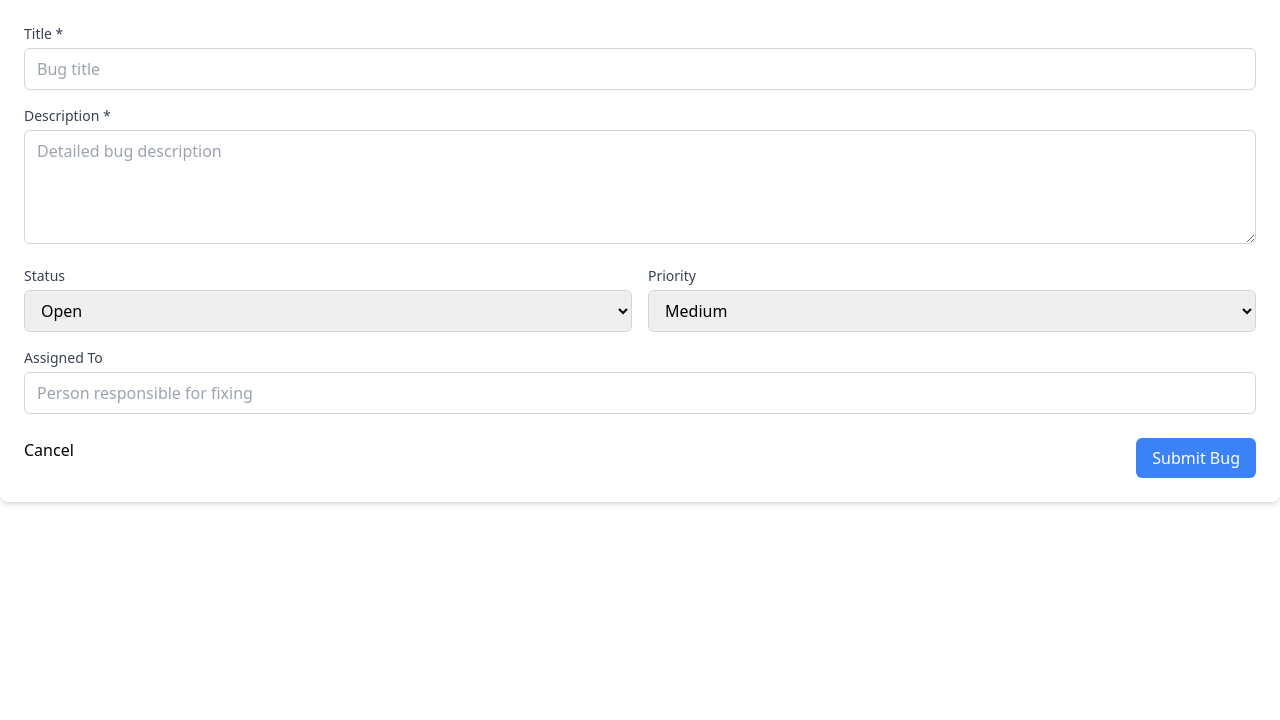
Scenario: BugForm Component › displays validation errors when submitting empty form
The image size is (1280, 720).
Click the button "Submit Bug" at [1196, 458], box [1136,438,1256,478]
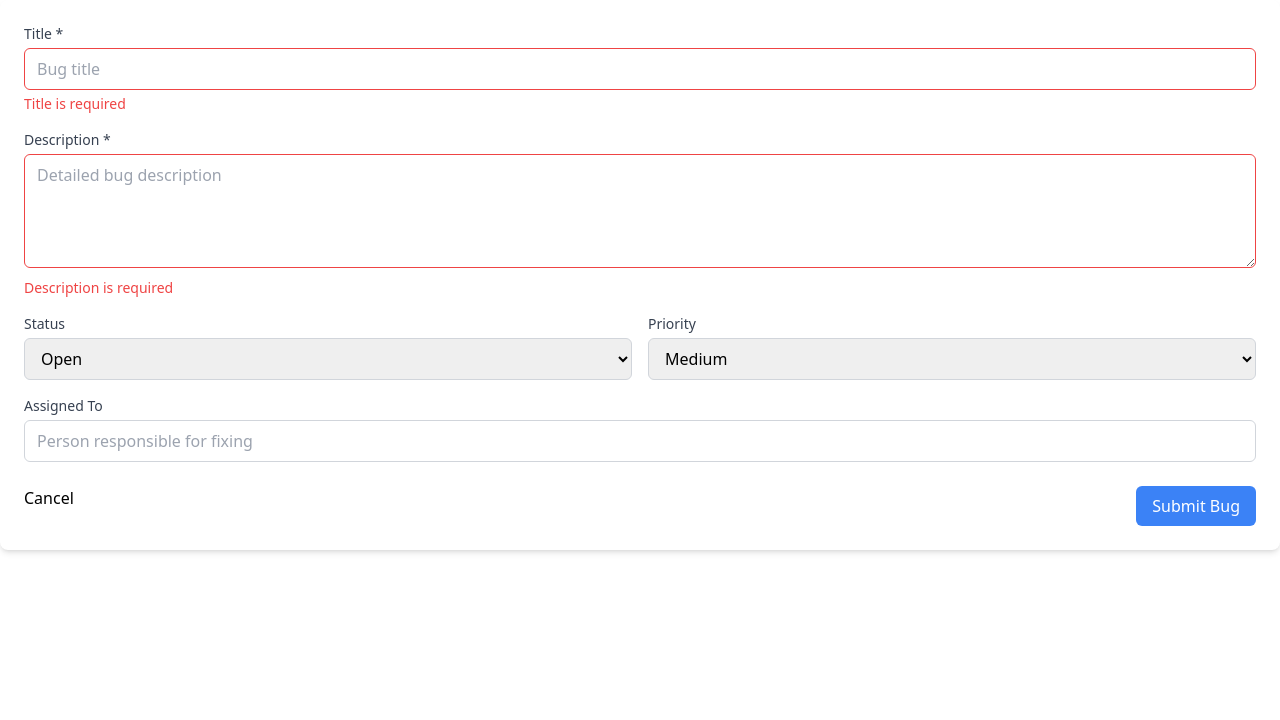
Expected: the text "Title is required" is shown, [24,94,126,113]
Expected: the text "Description is required" is shown, [24,278,173,297]
